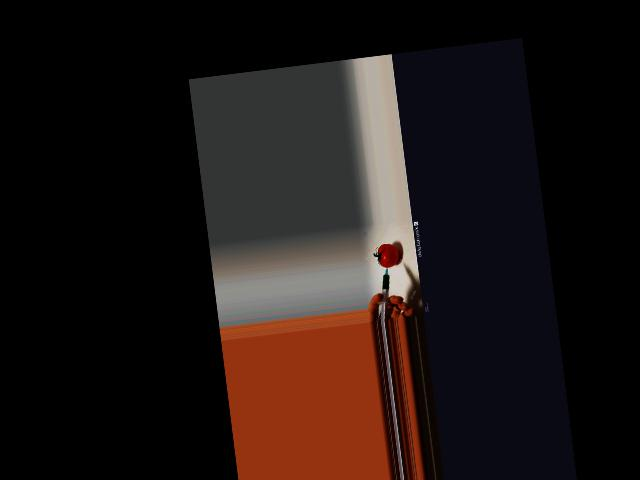tomato: (377, 243, 401, 268)
